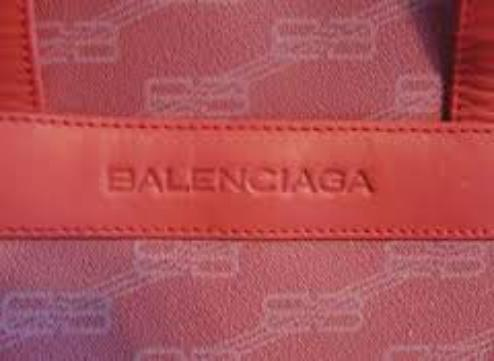BALENCIAGA: (100, 160, 378, 198)
